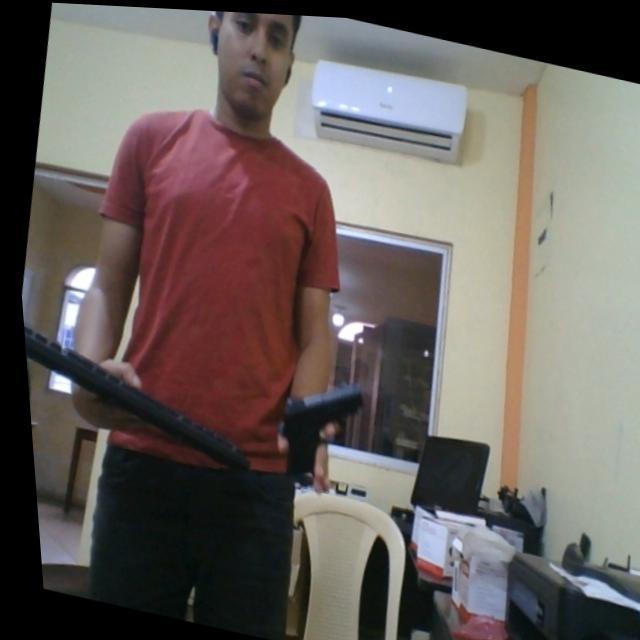weapon: (250, 360, 368, 497)
